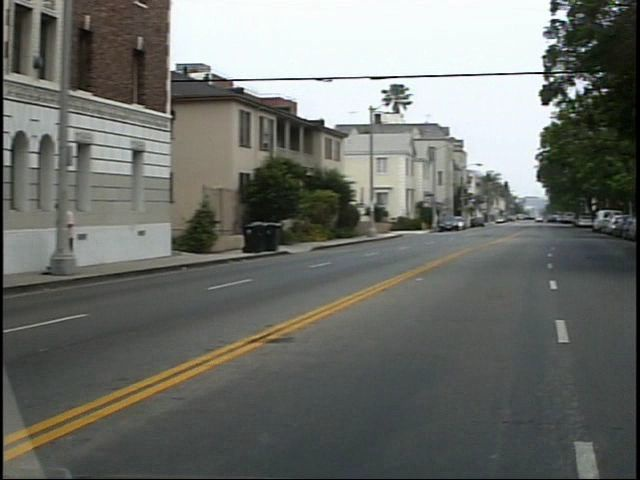person: (63, 197, 98, 275)
